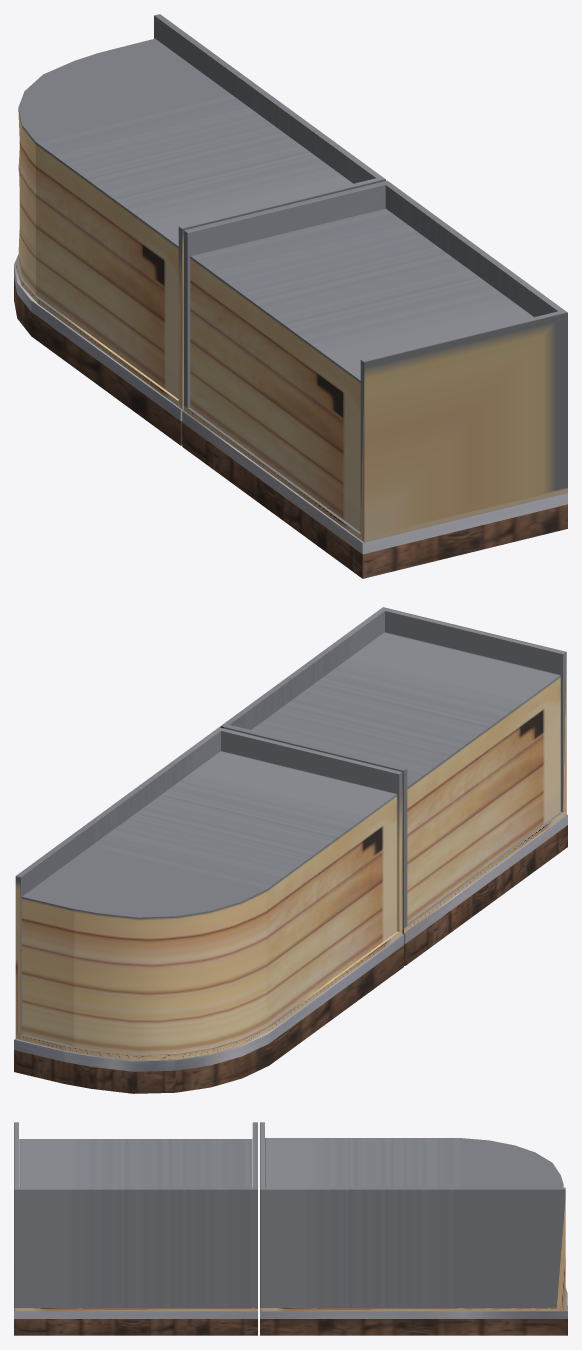
File: fishtanks.fbx
The picture shows the model from 3 angles, top to bottom: view 1: azimuth 30°, elevation 25°; view 2: azimuth 150°, elevation 25°; view 3: azimuth 270°, elevation 25°; orthographic projection. The views are drawn at different scales.
Visible parts, largest first — view 1: water, water1, back1, back, wood1, metal1, wood, metal; view 2: water, water1, back, back1, wood, metal, wood1, metal1; view 3: back, back1, water, water1, wood, wood1, metal, metal1.
Part boxes in pixels (x1,y1,x2,y2): water: [18, 38, 353, 398]; water1: [190, 208, 533, 531]; back1: [184, 180, 567, 542]; back: [15, 14, 385, 409]; wood1: [182, 422, 567, 578]; metal1: [182, 410, 567, 554]; wood: [14, 277, 182, 445]; metal: [14, 256, 183, 420]; water: [22, 751, 397, 1055]; water1: [251, 632, 560, 923]; back: [15, 727, 402, 1060]; back1: [220, 607, 566, 933]; wood: [14, 945, 403, 1093]; metal: [14, 934, 403, 1071]; wood1: [404, 825, 567, 965]; metal1: [402, 814, 567, 943]; back: [260, 1122, 565, 1311]; back1: [14, 1122, 257, 1311]; water: [265, 1138, 563, 1187]; water1: [19, 1139, 252, 1187]; wood: [260, 1319, 567, 1335]; wood1: [14, 1319, 257, 1335]; metal: [260, 1287, 567, 1318]; metal1: [14, 1311, 257, 1318].
Size of the model in its own units: 27.89 by 28.06 by 96.38.
